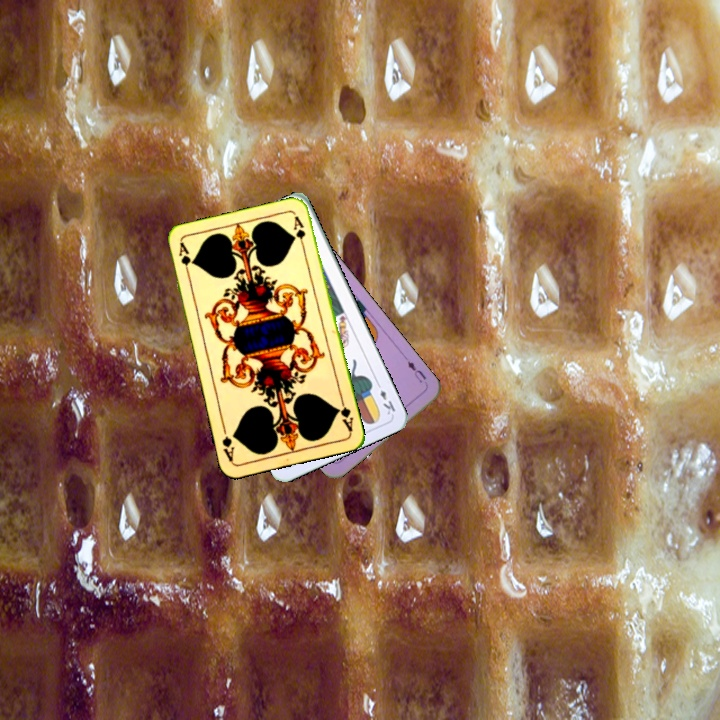EK: (372, 378, 398, 417)
EU: (403, 356, 429, 385)
GA: (333, 394, 356, 434), (175, 239, 194, 279)
